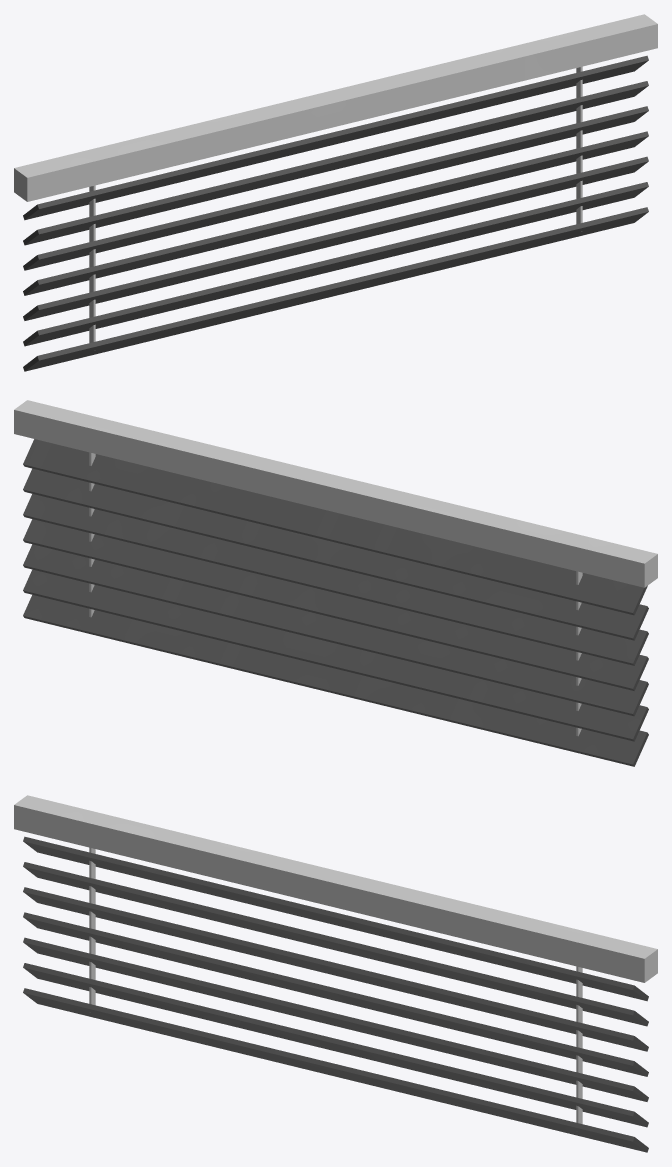
File: Curtain_03_03.fbx
The picture shows the model from 3 angles, top to bottom: view 1: azimuth 30°, elevation 25°; view 2: azimuth 150°, elevation 25°; view 3: azimuth 330°, elevation 25°; orthographic projection.
Visible parts, largest first — view 1: Curtain_03_03; view 2: Curtain_03_03; view 3: Curtain_03_03.
Boxes of the visible parts, x1,y1,x2,y2 form: Curtain_03_03: [14, 14, 657, 371]; Curtain_03_03: [14, 400, 657, 766]; Curtain_03_03: [14, 795, 657, 1152].
Size of the model in its own units: 1.46 by 0.4551 by 0.0643.
